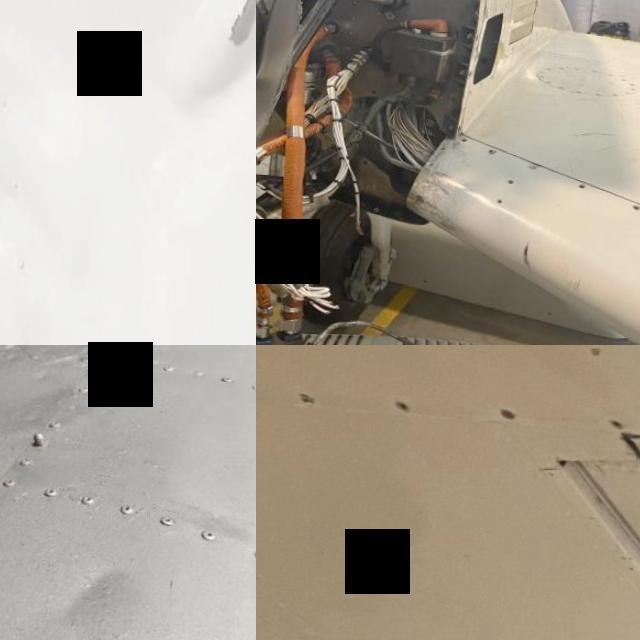Dent: (34, 523, 152, 640), (177, 0, 256, 127)
Missing_Fastener: (606, 414, 621, 427), (628, 198, 640, 207), (577, 178, 586, 185), (494, 193, 502, 200), (427, 157, 434, 165), (506, 174, 514, 180), (438, 142, 445, 148), (460, 134, 466, 138)
